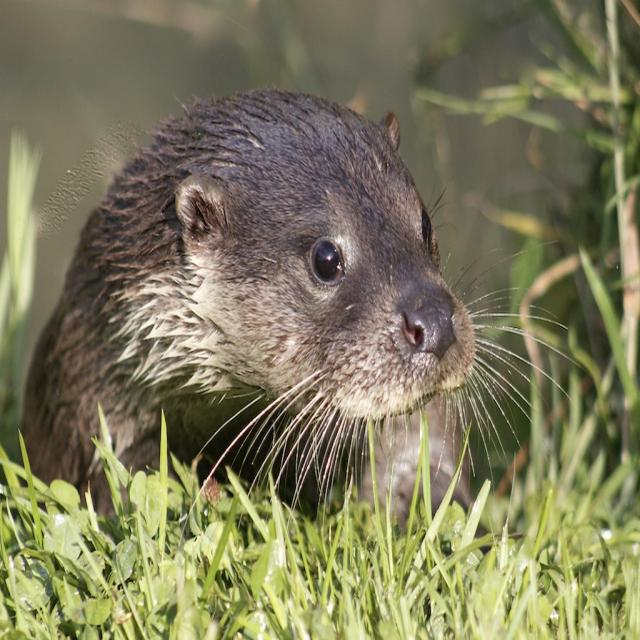otter: (25, 92, 479, 517)
